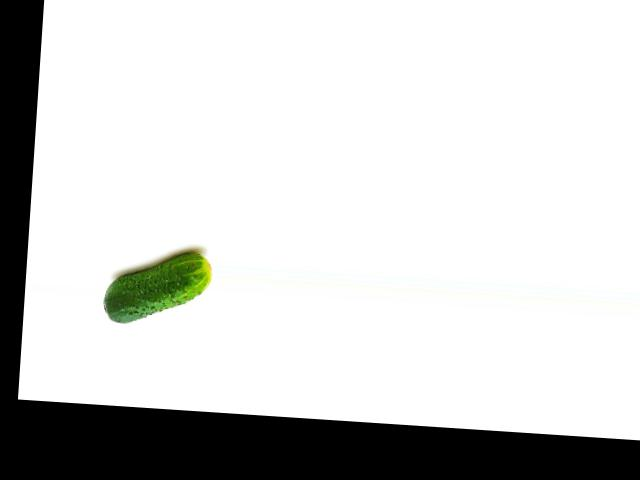cucumber: (102, 247, 213, 328)
